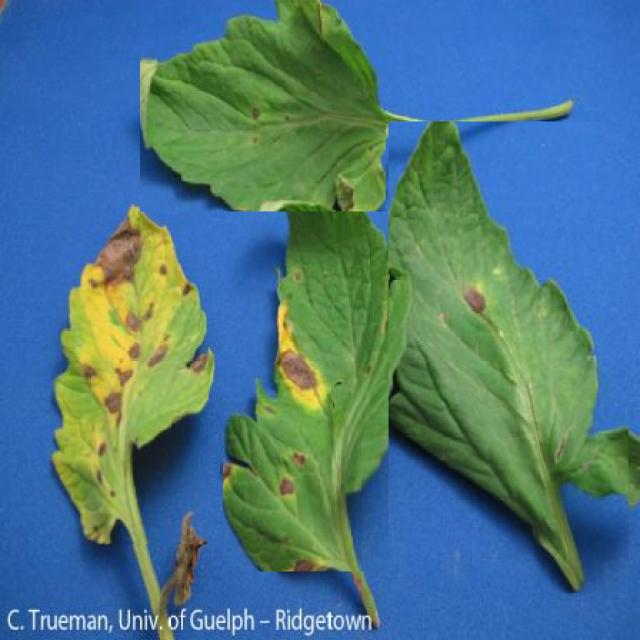Early Blight: (390, 122, 630, 594), (223, 188, 408, 572), (45, 196, 209, 545), (140, 0, 385, 211)
